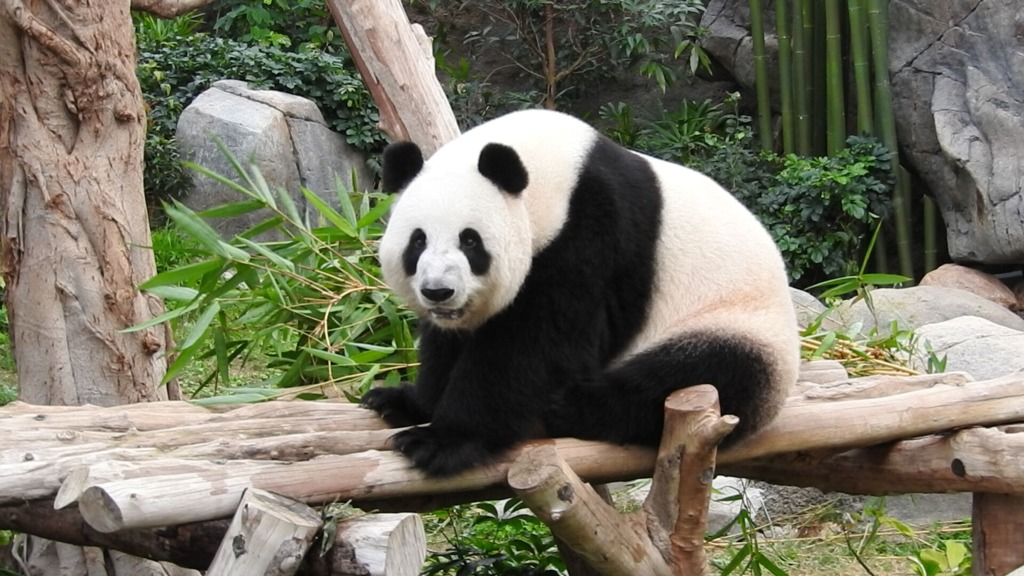panda: (338, 98, 810, 476)
